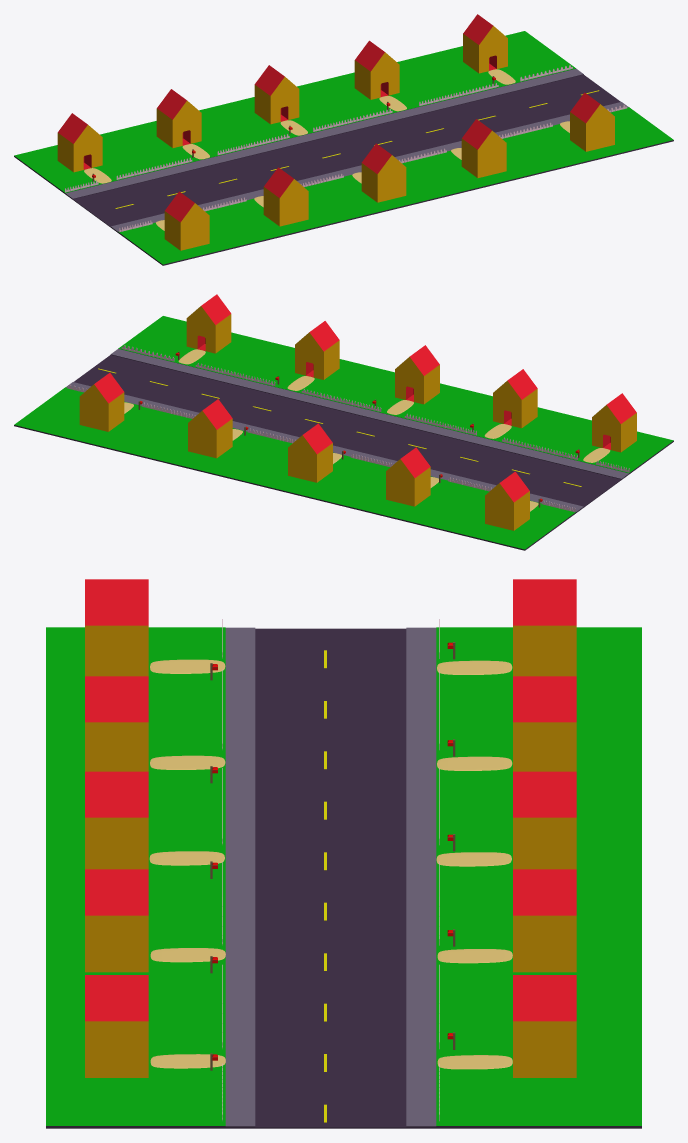
The model's file is SUBURB.fbx.
3 renders of one model, top to bottom at view 1: azimuth 30°, elevation 25°; view 2: azimuth 150°, elevation 25°; view 3: azimuth 270°, elevation 25°, orthographic. The views are drawn at different scales.
Visible parts, largest first — view 1: Ground, HUS, GJERDE, Sti; view 2: Ground, HUS, GJERDE, Sti; view 3: Ground, HUS, Sti, POSTKASSE, GJERDE.
Boxes of the visible parts, bbox=[...] form: Ground: bbox=[14, 31, 673, 265]; HUS: bbox=[57, 14, 614, 250]; GJERDE: bbox=[65, 65, 627, 232]; Sti: bbox=[84, 69, 569, 230]; Ground: bbox=[14, 316, 673, 550]; HUS: bbox=[79, 294, 636, 530]; GJERDE: bbox=[67, 345, 629, 512]; Sti: bbox=[124, 349, 610, 511]; Ground: bbox=[46, 627, 641, 1128]; HUS: bbox=[85, 579, 576, 1077]; Sti: bbox=[149, 659, 512, 1069]; POSTKASSE: bbox=[210, 642, 455, 1070]; GJERDE: bbox=[222, 619, 439, 1121].
Size of the model in its own units: 11466 by 978 by 5792.
